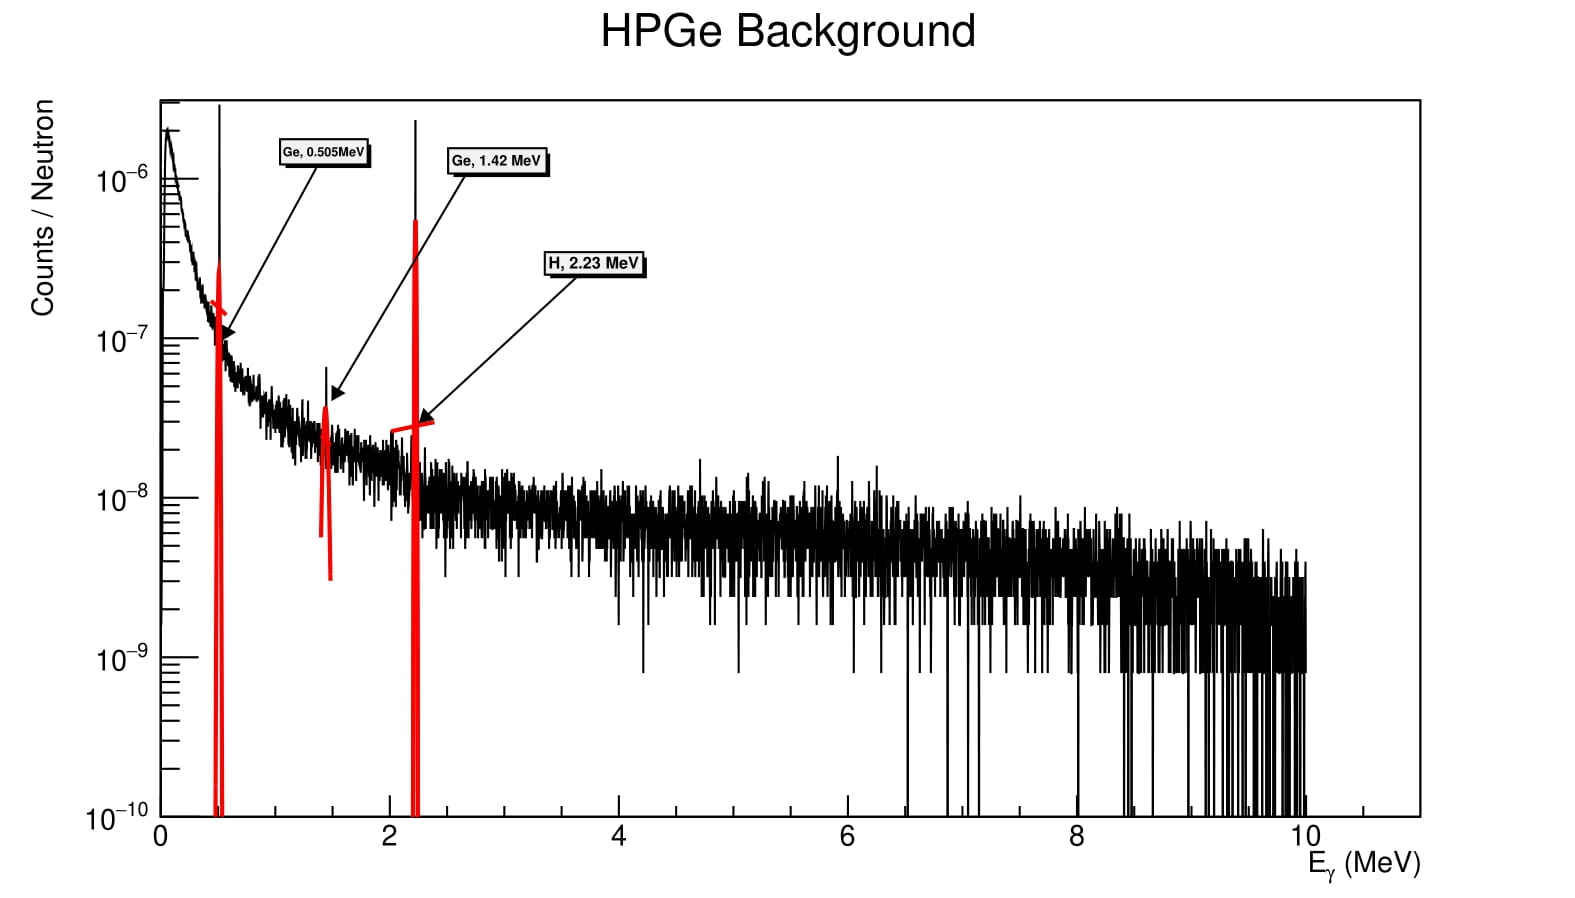gauss: (200, 100, 250, 828), (395, 166, 432, 826), (310, 356, 354, 597)
other: (433, 451, 1369, 863)
